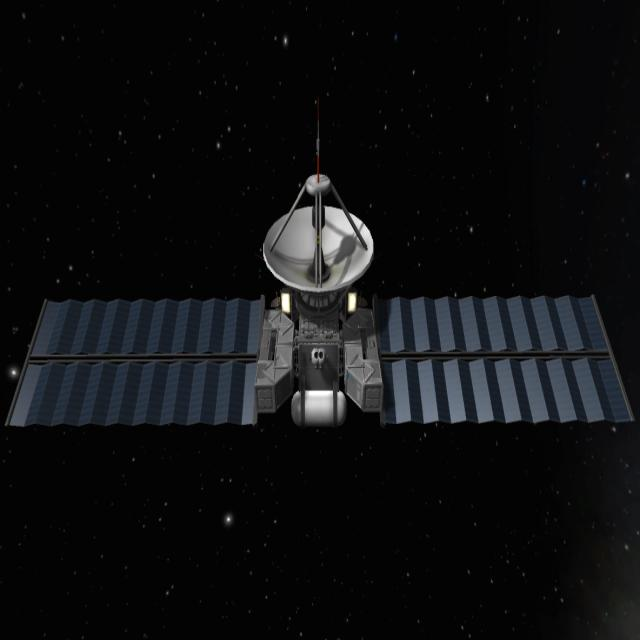satellite: (0, 33, 640, 461)
